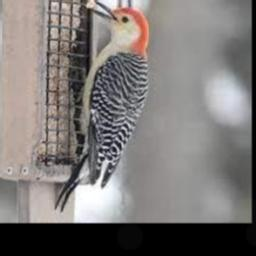Woodpecker: (54, 0, 148, 211)
